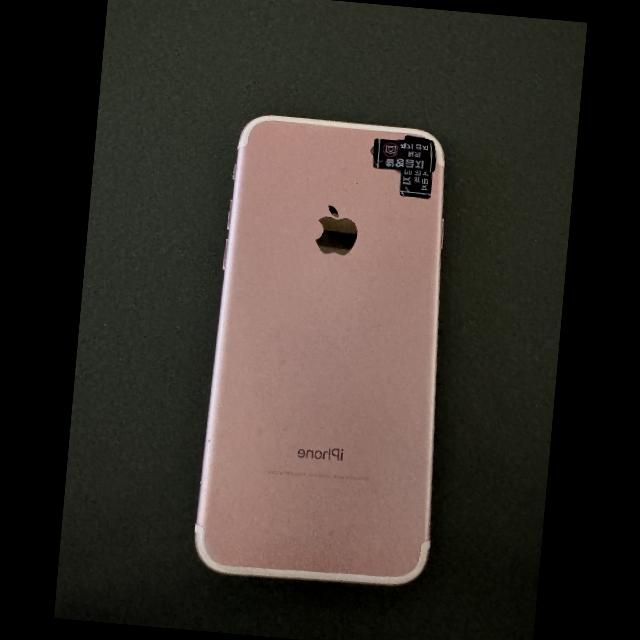phone: (195, 115, 445, 585)
sticker: (373, 138, 435, 172), (399, 170, 432, 199)
